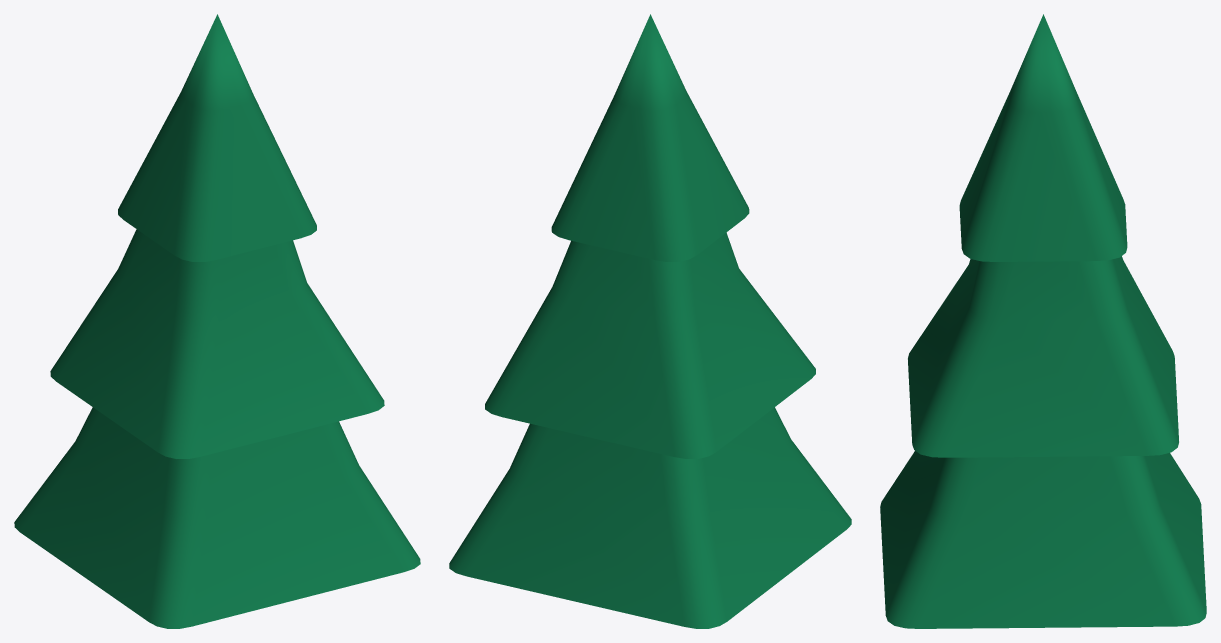
Rendered from pine01_s03.FBX.
3 renders of one model, left to right at view 1: azimuth 30°, elevation 25°; view 2: azimuth 150°, elevation 25°; view 3: azimuth 270°, elevation 25°, orthographic. The views are drawn at different scales.
Parts seen in each view (by area): view 1: pine01_s03; view 2: pine01_s03; view 3: pine01_s03.
Part boxes in pixels (left/top/right/bottom): pine01_s03: left=14, top=14, right=420, bottom=628; pine01_s03: left=449, top=14, right=851, bottom=628; pine01_s03: left=880, top=14, right=1206, bottom=628.
Size of the model in its own units: 182 by 182 by 335.
1 material, 1 textured.
